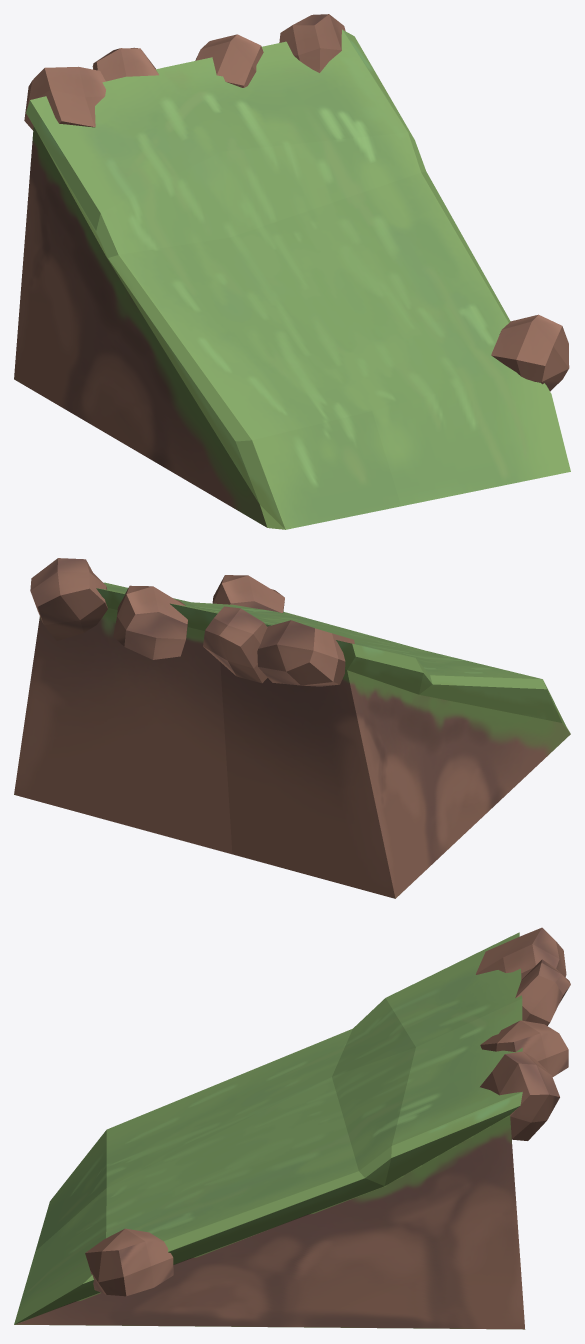
The model's file is Rampe.glb.
3 renders of one model, top to bottom at view 1: azimuth 30°, elevation 25°; view 2: azimuth 150°, elevation 25°; view 3: azimuth 270°, elevation 25°, orthographic.
Visible parts, largest first — view 1: lanceur; view 2: lanceur; view 3: lanceur.
Boxes of the visible parts, x1,y1,x2,y2 form: lanceur: [14, 14, 570, 529]; lanceur: [14, 558, 570, 898]; lanceur: [14, 927, 570, 1329].
Size of what is drawn, in the model's own units: 2.17 by 1.57 by 2.85.
Materials: 1 (1 with a texture image).
